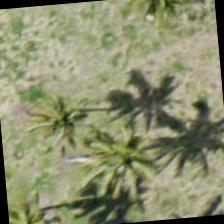Kelapa_Sawit: (92, 124, 190, 222), (10, 68, 108, 166), (5, 174, 80, 223)
